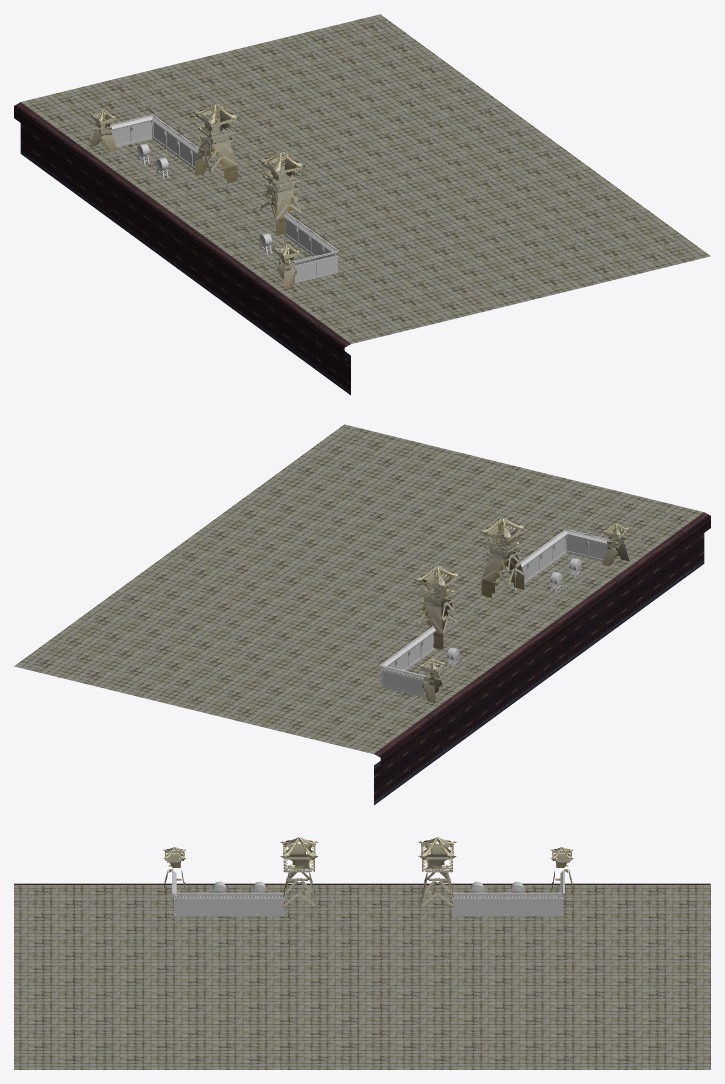
3 views of the same model, one above another, from view 1: azimuth 30°, elevation 25°; view 2: azimuth 150°, elevation 25°; view 3: azimuth 270°, elevation 25° (orthographic). The views are drawn at different scales.
Parts seen in each view (by area): view 1: Rectangle005, Group001, t008, qiangti005, gu004; view 2: Rectangle005, Group001, t008, qiangti005, gu004; view 3: Rectangle005, qiangti005, t008, Group001, gu004.
Boxes of the visible parts, left/top/right/bottom form: Rectangle005: left=20, top=14, right=710, bottom=343; Group001: left=14, top=102, right=350, bottom=395; t008: left=89, top=103, right=305, bottom=289; qiangti005: left=109, top=114, right=338, bottom=283; gu004: left=137, top=144, right=290, bottom=264; Rectangle005: left=14, top=424, right=703, bottom=753; Group001: left=374, top=512, right=710, bottom=805; t008: left=413, top=518, right=630, bottom=703; qiangti005: left=380, top=528, right=610, bottom=697; gu004: left=428, top=558, right=581, bottom=678; Rectangle005: left=14, top=885, right=710, bottom=1069; qiangti005: left=172, top=869, right=564, bottom=916; t008: left=163, top=837, right=573, bottom=922; Group001: left=14, top=883, right=710, bottom=884; gu004: left=211, top=881, right=525, bottom=896.
Size of the model in its own units: 4318 by 1477 by 6748.
